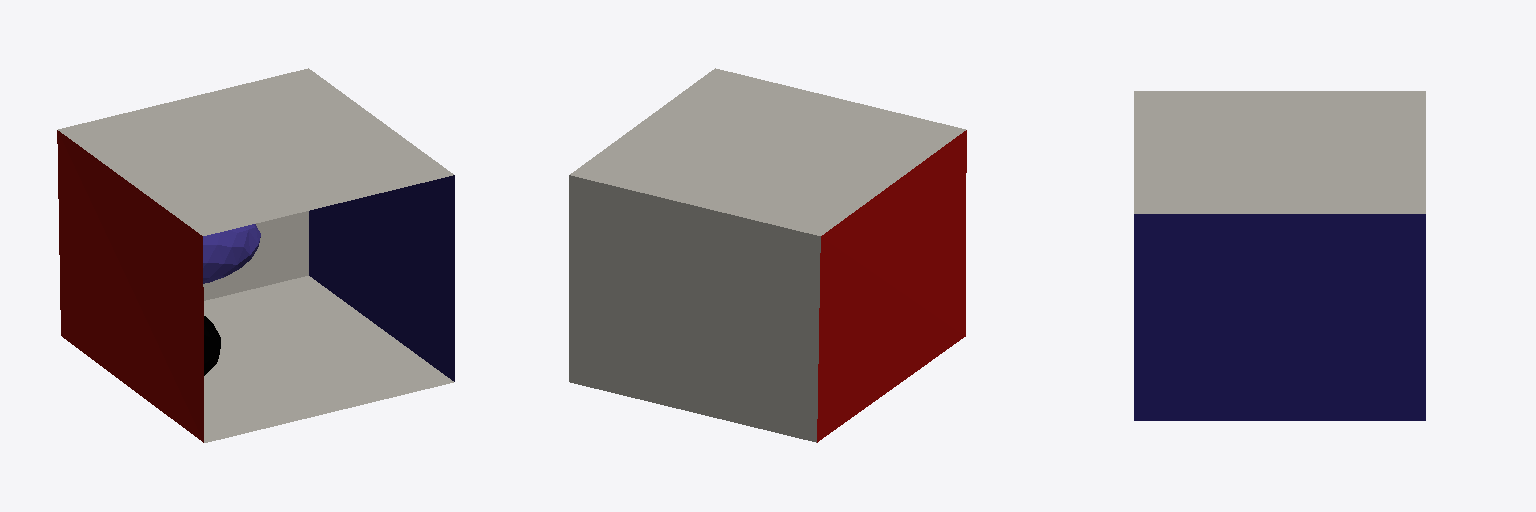
Rendered from CornellBox-Ellipsoid-30.obj.
The picture shows the model from 3 angles: view 1: azimuth 30°, elevation 25°; view 2: azimuth 150°, elevation 25°; view 3: azimuth 270°, elevation 25°; orthographic projection.
Visible parts, largest first — view 1: ceiling, leftWall, floor, rightWall, backWall, leftSphere, rightSphere; view 2: backWall, ceiling, leftWall; view 3: rightWall, ceiling.
Boxes of the visible parts, x1=… form: ceiling: x1=58, y1=68, x2=453, y2=235; leftWall: x1=57, y1=130, x2=203, y2=442; floor: x1=204, y1=276, x2=453, y2=442; rightWall: x1=309, y1=175, x2=454, y2=381; backWall: x1=203, y1=211, x2=308, y2=300; leftSphere: x1=203, y1=224, x2=260, y2=283; rightSphere: x1=204, y1=316, x2=220, y2=375; backWall: x1=569, y1=175, x2=820, y2=442; ceiling: x1=570, y1=68, x2=965, y2=235; leftWall: x1=817, y1=130, x2=966, y2=442; rightWall: x1=1134, y1=214, x2=1425, y2=420; ceiling: x1=1134, y1=91, x2=1425, y2=213.
Size of the model in its own units: 2.02 by 1.59 by 2.03.